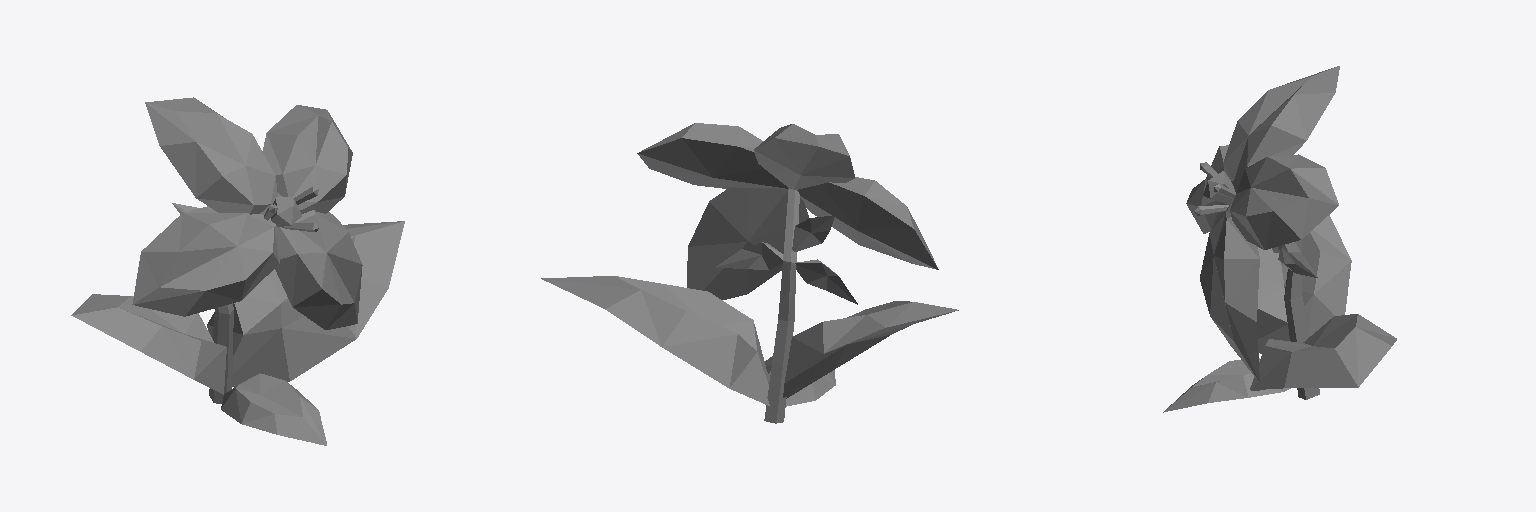
Rendered from flowers.obj.
3 renders of one model, left to right at view 1: azimuth 30°, elevation 25°; view 2: azimuth 150°, elevation 25°; view 3: azimuth 270°, elevation 25°, orthographic.
Visible parts, largest first — view 1: Inst3D27_RefRep.226; view 2: Inst3D27_RefRep.226; view 3: Inst3D27_RefRep.226.
Part boxes in pixels (x1,y1,x2,y2): Inst3D27_RefRep.226: (71, 97, 404, 445); Inst3D27_RefRep.226: (541, 123, 958, 423); Inst3D27_RefRep.226: (1163, 66, 1396, 412).
Bounding box in the file's own units: 3.9 × 2.99 × 2.11.